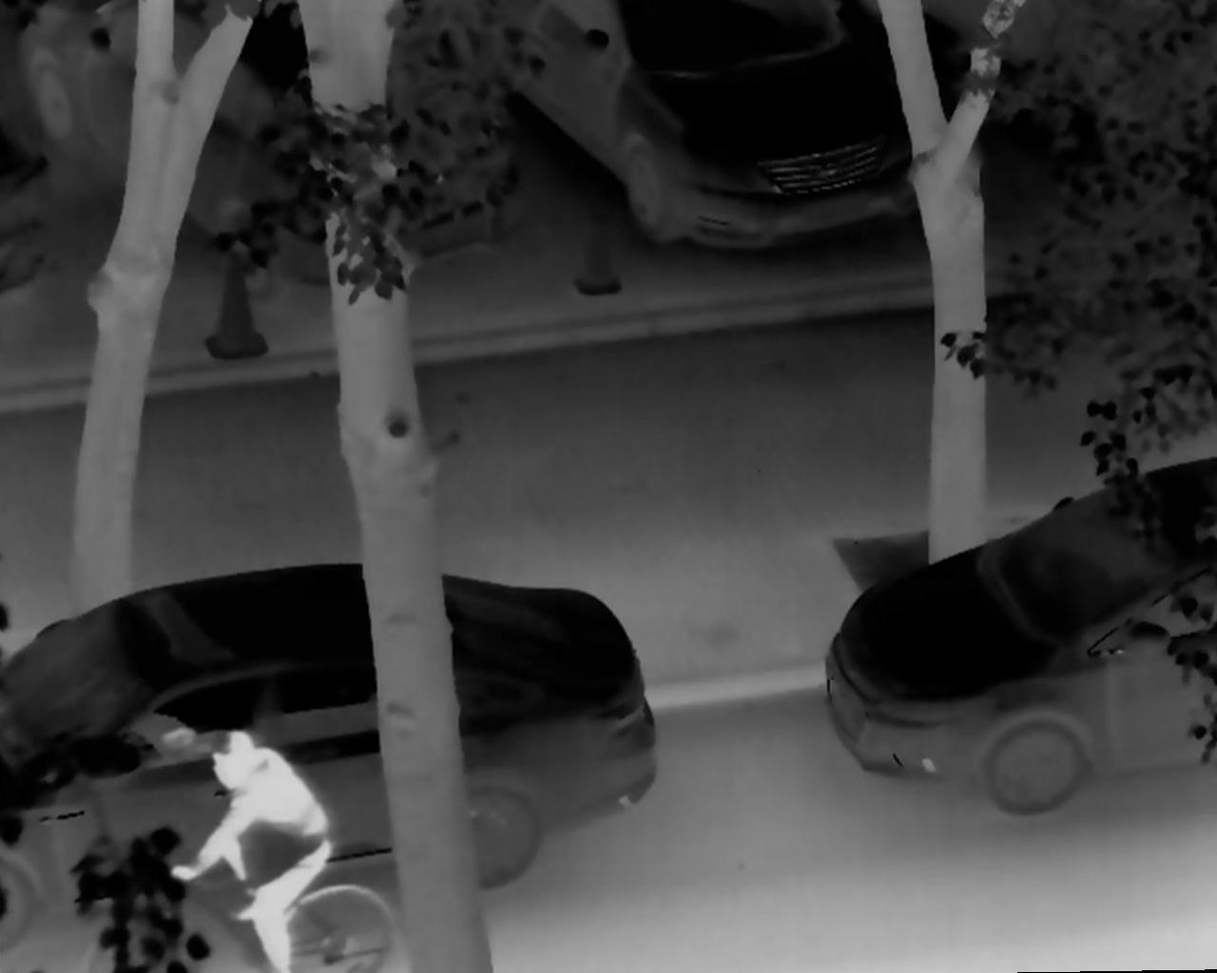person: (147, 720, 337, 973)
